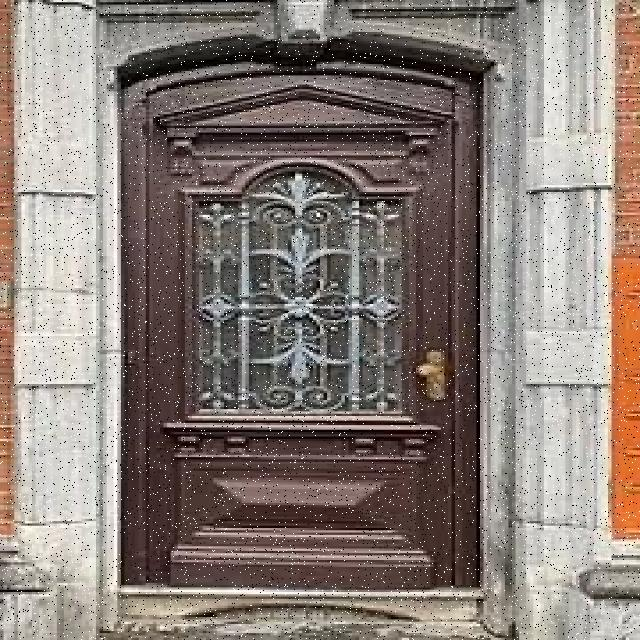Door: (102, 23, 502, 606)
